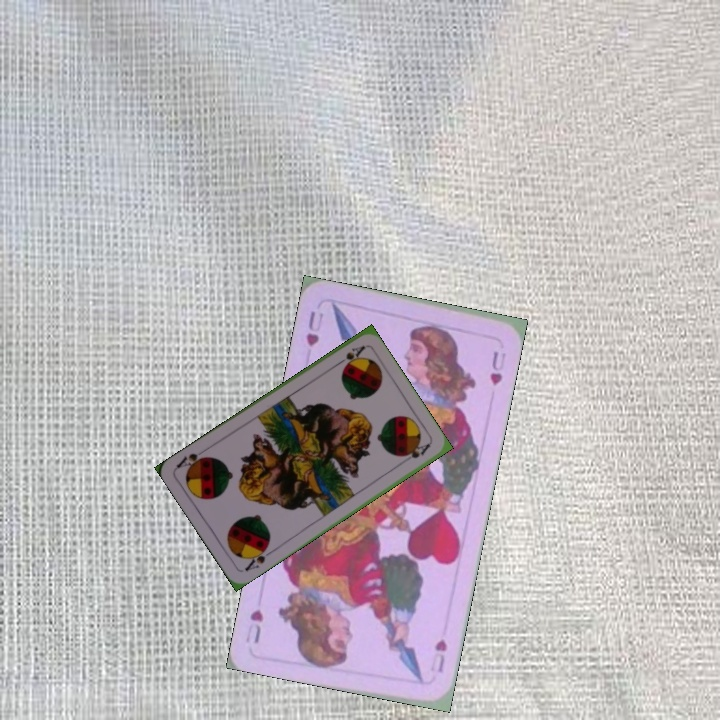HU: (302, 306, 326, 349), (428, 635, 450, 676)
SA: (241, 541, 276, 574), (331, 341, 368, 370)
